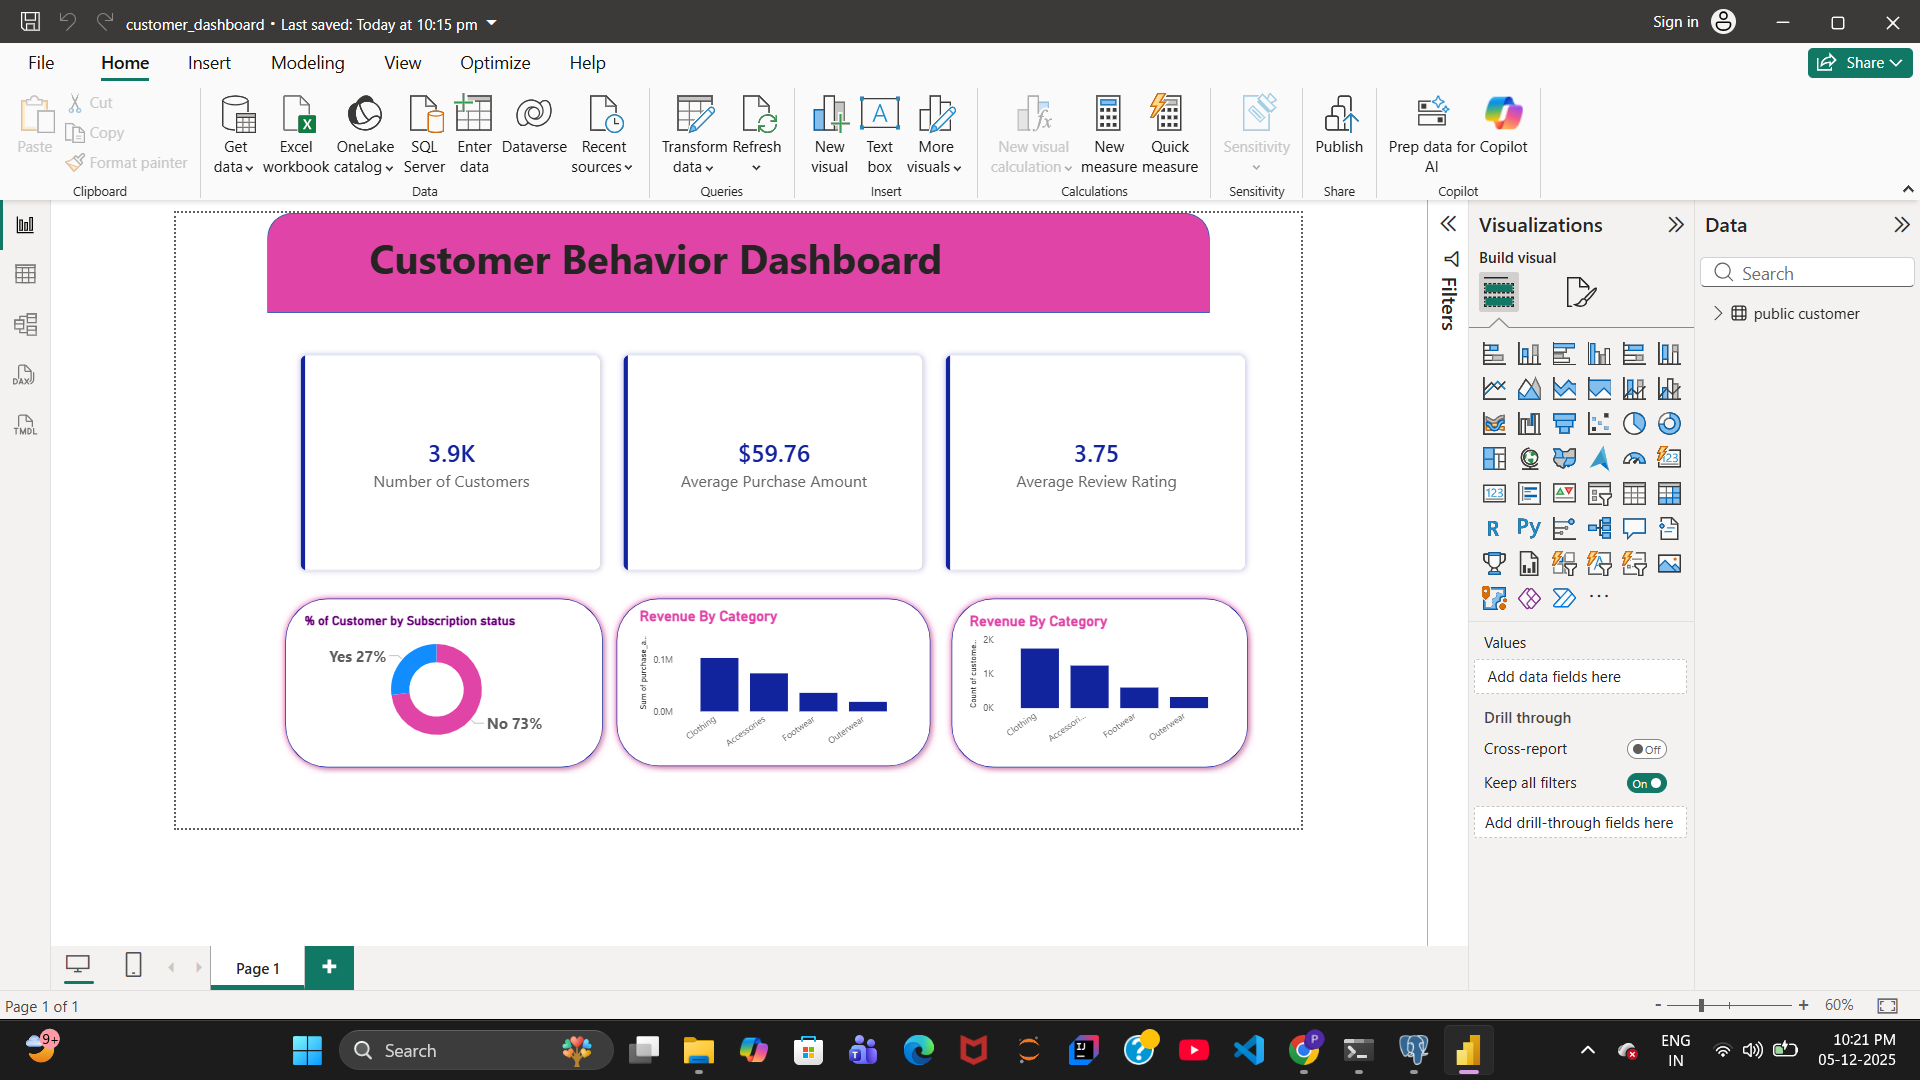

The dashboard page shown, as its layout file describes it:
{"tool":"powerbi","page":{"name":"Page 1","canvas":[1500,820],"ordinal":0},"visuals":[{"type":"cardVisual","fields":{"Data":["public customer.Number of Customers","public customer.Average Purchase Amount","public customer.Average Review Rating"]},"box":[138.3,161.7,1316.7,343.3],"z":0},{"type":"shape","box":[121.7,0,1256.7,133.3],"z":1000},{"type":"textbox","box":[138.3,18.3,1003.3,115],"z":2000},{"type":"shape","box":[136.7,505,441.7,243.3],"z":3000},{"type":"donutChart","title":"% of Customer by Subscription status","fields":{"Category":["public customer.subscription_status"],"Y":["Count(public customer.customer_id)"]},"box":[166.7,533.3,361.7,185],"z":4000},{"type":"shape","box":[578.3,505,436.7,241.7],"z":5000},{"type":"shape","box":[1025,505,413.3,243.3],"z":6000},{"type":"clusteredColumnChart","title":"Revenue By Category","fields":{"Y":["Sum(public customer.purchase_amount)"],"Category":["public customer.category"]},"box":[613.3,526.7,368.3,200],"z":7000},{"type":"clusteredColumnChart","title":"Revenue By Category","fields":{"Y":["CountNonNull(public customer.customer_id)"],"Category":["public customer.category"]},"box":[1053.3,533.3,356.7,185],"z":8000}]}

Visuals, with their boxes on the page's 1500x820 design canvas (x1, y1, x2, y2). These are canvas units, not pixel positions in the 1920x1080 screenshot, which may show the page scaled, cropped or inside an application window:
cardVisual - public customer.Number of Customers x public customer.Average Purchase Amount: 138,162,1455,505
shape: 122,0,1378,133
textbox: 138,18,1142,133
shape: 137,505,578,748
"% of Customer by Subscription status" donutChart: 167,533,528,718
shape: 578,505,1015,747
shape: 1025,505,1438,748
"Revenue By Category" clusteredColumnChart: 613,527,982,727
"Revenue By Category" clusteredColumnChart: 1053,533,1410,718
